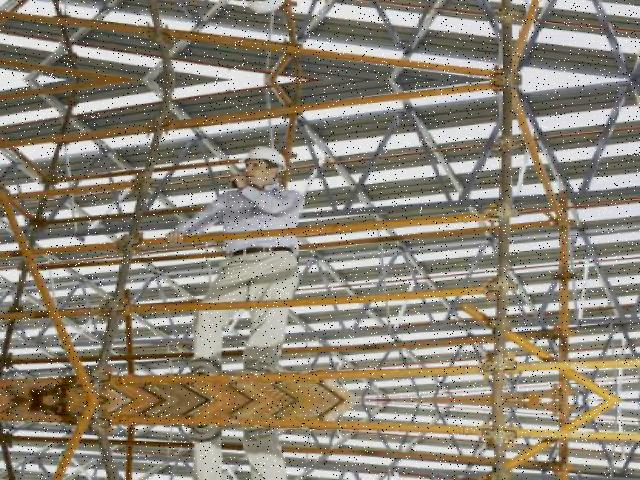Helmet: (238, 142, 294, 174)
